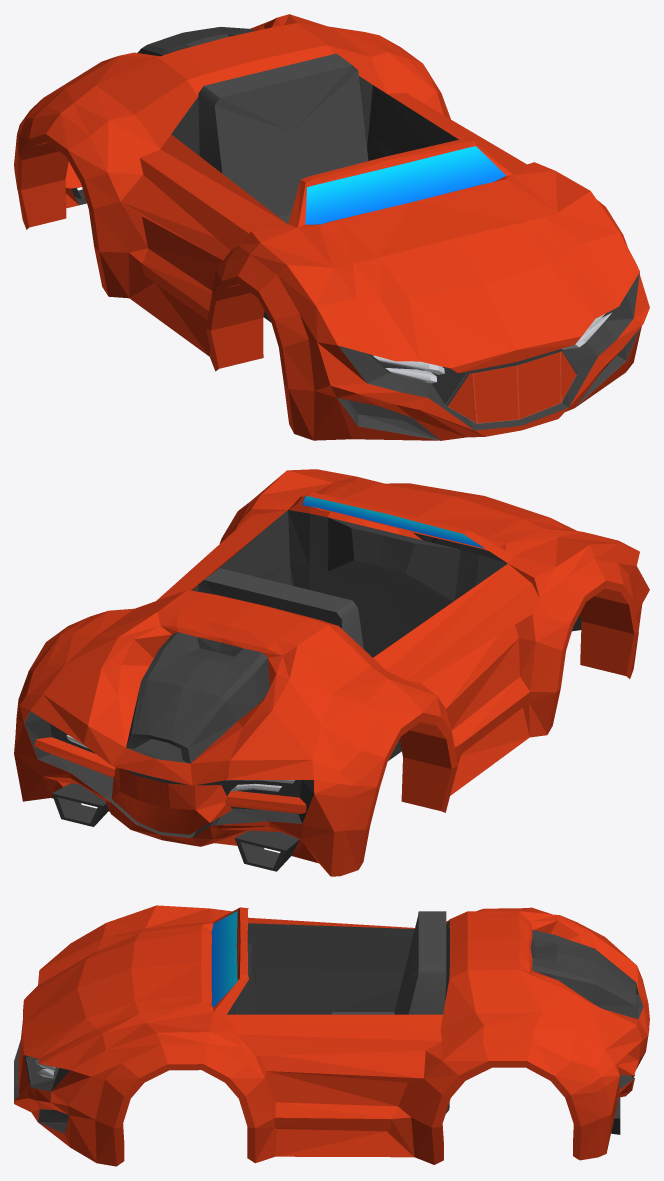
Rendered from car.FBX.
3 renders of one model, top to bottom at view 1: azimuth 30°, elevation 25°; view 2: azimuth 150°, elevation 25°; view 3: azimuth 270°, elevation 25°, orthographic. The views are drawn at different scales.
Visible parts, largest first — view 1: Box001, Object001, Plane006, Object003, Object005; view 2: Box001, Object001, Plane006; view 3: Box001, Object001, Plane006, Object003.
Boxes of the visible parts, box(x1,y1,x2,y2) form: Box001: box(14, 14, 649, 440); Object001: box(198, 53, 368, 223); Plane006: box(305, 146, 505, 224); Object003: box(431, 348, 577, 423); Object005: box(373, 312, 611, 383); Box001: box(14, 469, 649, 876); Object001: box(198, 568, 363, 648); Plane006: box(302, 496, 484, 548); Box001: box(14, 905, 649, 1166); Object001: box(328, 911, 446, 1014); Plane006: box(211, 911, 237, 1007); Object003: box(18, 1020, 58, 1094).
Size of the model in its own units: 1626 by 799 by 2909.
Materials: 6 (6 with a texture image).
